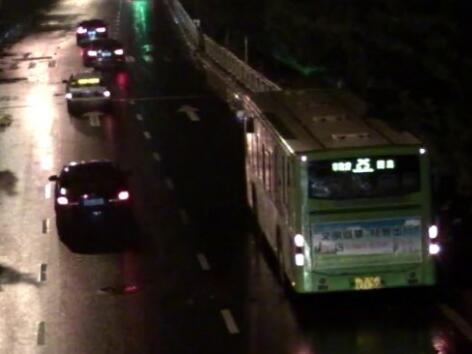bus: (232, 87, 441, 295)
car: (49, 159, 134, 246), (61, 69, 113, 113), (84, 36, 125, 70), (75, 18, 107, 43)
